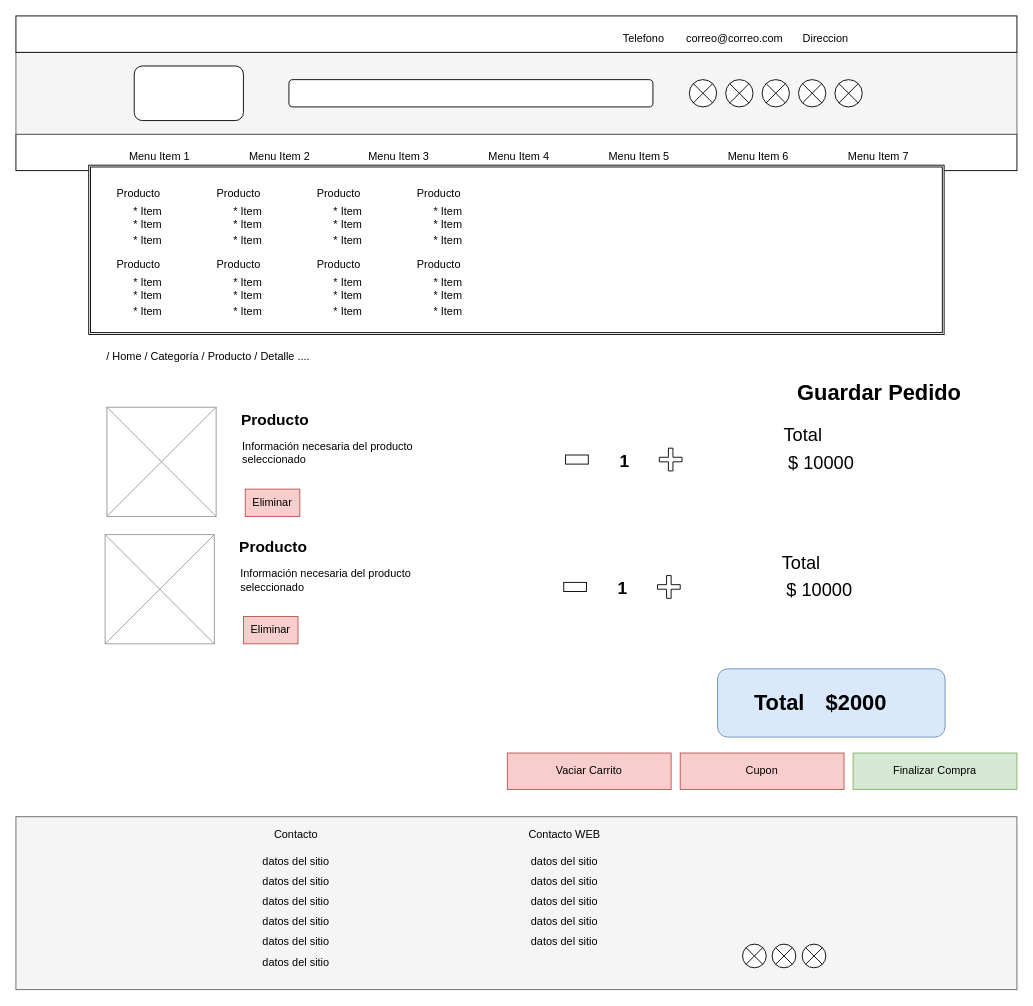
Image size: 1033x1006. Some labels were removed from this diagram. The box of each missing label's shape, as (x1, y1, x2, y2) in pixels:
Buscador: (288, 79, 653, 107)
LOGO: (133, 65, 243, 121)
